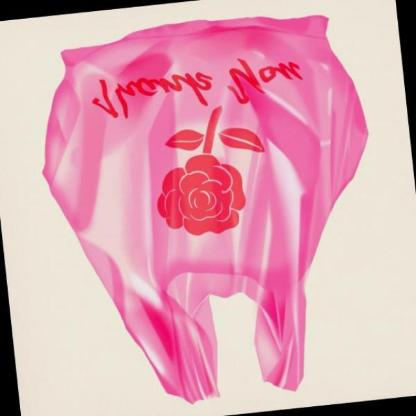Plastic Bag: (40, 14, 368, 404)
